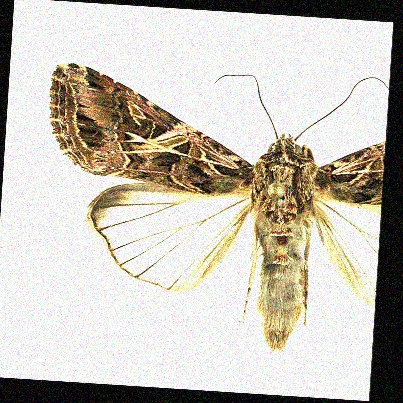Spodoptera litura: (41, 65, 381, 355)
